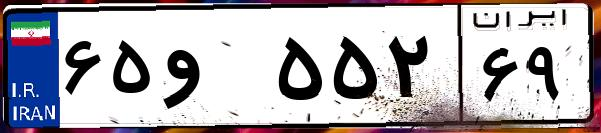2: (385, 28, 445, 110)
5: (270, 28, 330, 110), (330, 28, 385, 110), (110, 28, 158, 98)
6: (57, 26, 110, 100), (475, 38, 525, 113)
9: (525, 38, 570, 115)
و: (158, 20, 270, 120)
